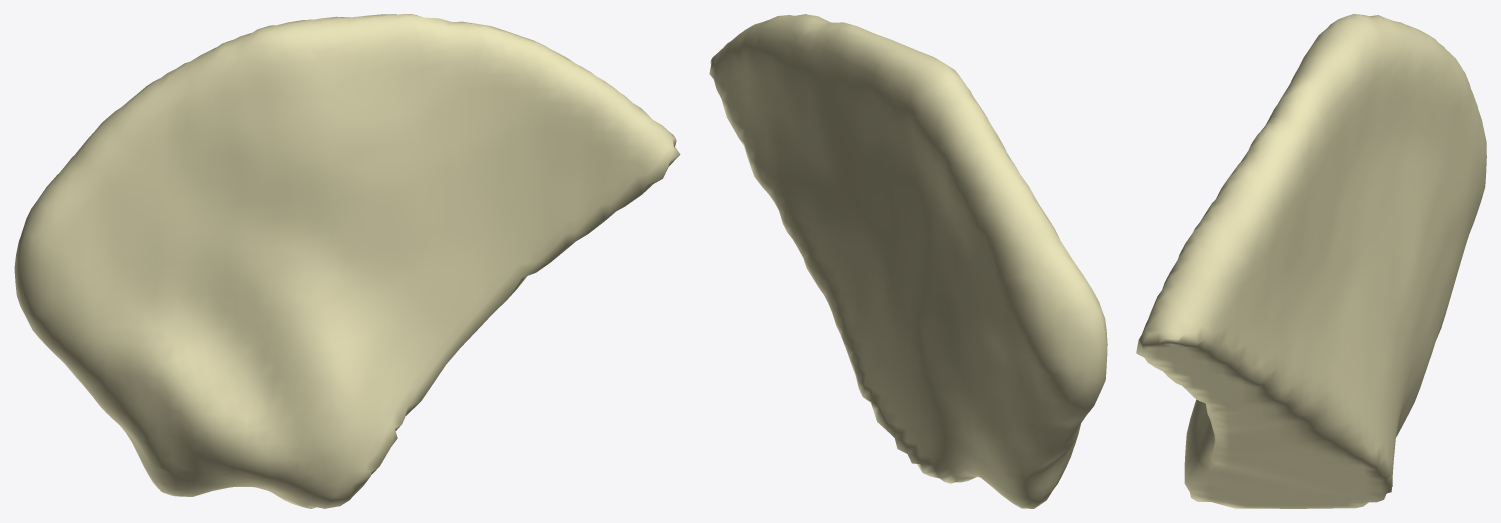
Rendered from Pat2_Mav_LeftIliumUpper.fbx.
3 views of the same model, side by side, from view 1: azimuth 30°, elevation 25°; view 2: azimuth 150°, elevation 25°; view 3: azimuth 270°, elevation 25° (orthographic). The views are drawn at different scales.
Visible parts, largest first — view 1: sm_LeftIlium_UpperPart; view 2: sm_LeftIlium_UpperPart; view 3: sm_LeftIlium_UpperPart.
Boxes of the visible parts, x1,y1,x2,y2 form: sm_LeftIlium_UpperPart: [14, 14, 680, 508]; sm_LeftIlium_UpperPart: [709, 14, 1107, 508]; sm_LeftIlium_UpperPart: [1136, 14, 1486, 508].
Bounding box in the file's own units: 39.39 × 31.34 × 19.67.
